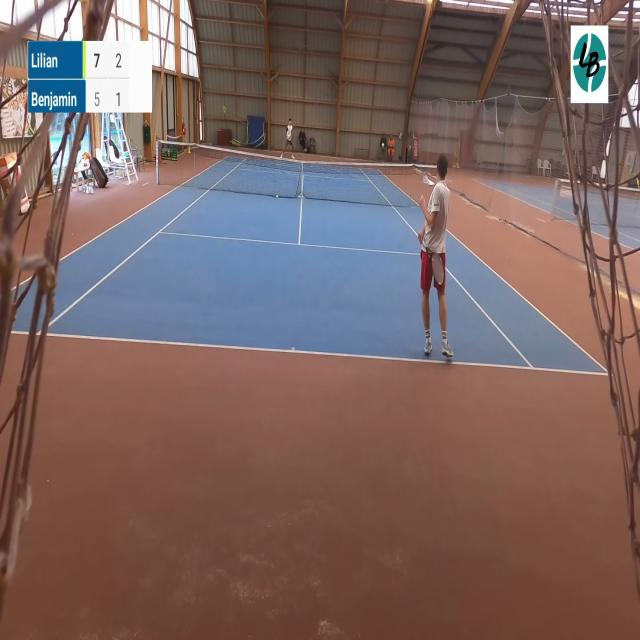ball: (274, 194, 278, 198)
